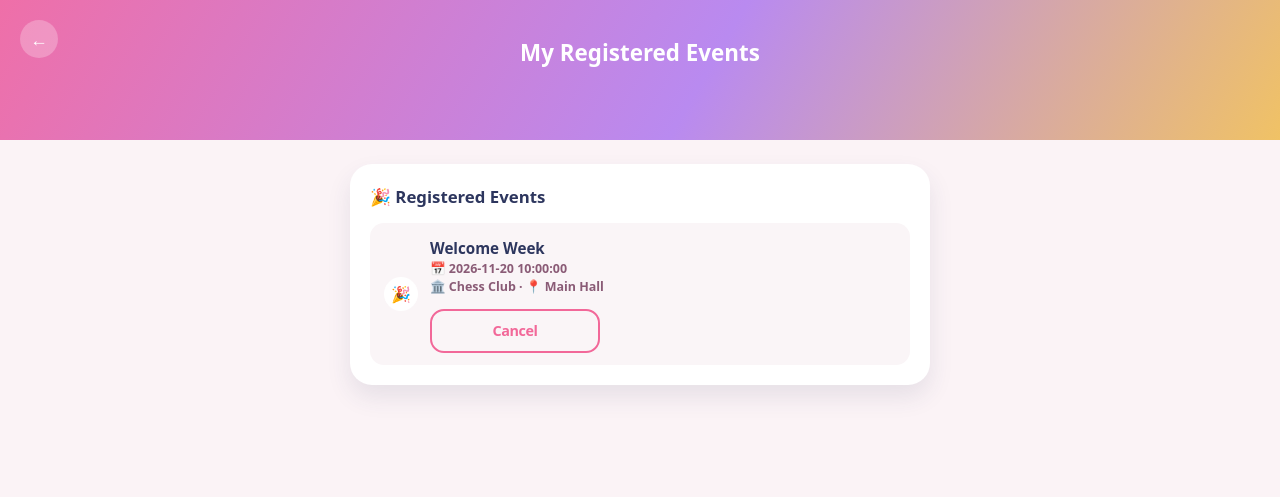
MyEventsPage › F9: clicking Cancel removes the event from the list
Step 1. Click the button "Cancel" → (515, 331), box top-left (430, 309), bottom-right (600, 353)
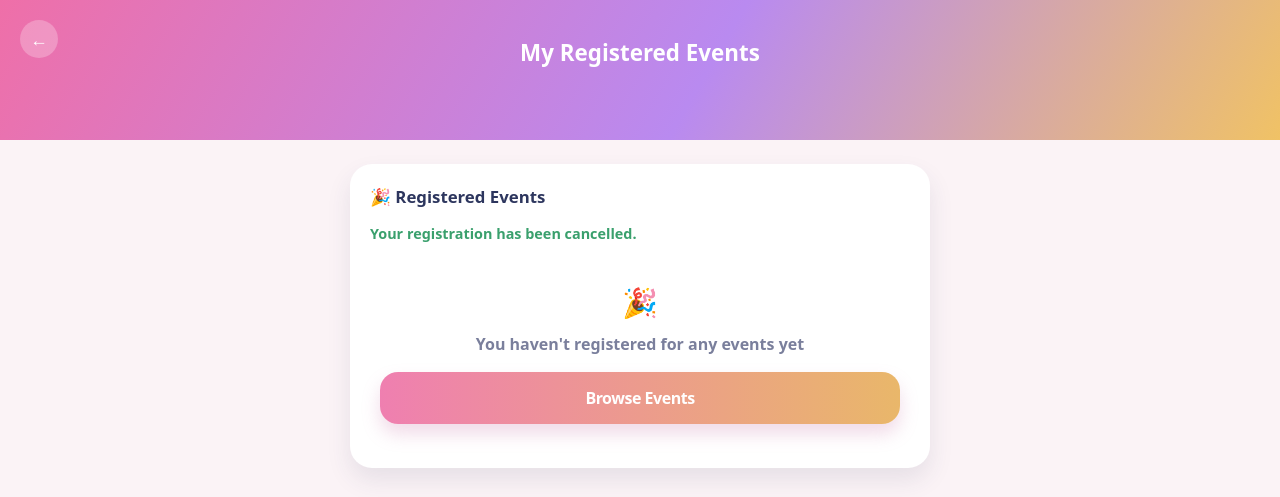
Now the text "Your registration has been cancelled." is shown, box top-left (370, 224), bottom-right (636, 243)
Now the text "Welcome Week" is gone
Now the text "You haven't registered for any events yet" is shown, box top-left (476, 333), bottom-right (804, 355)
